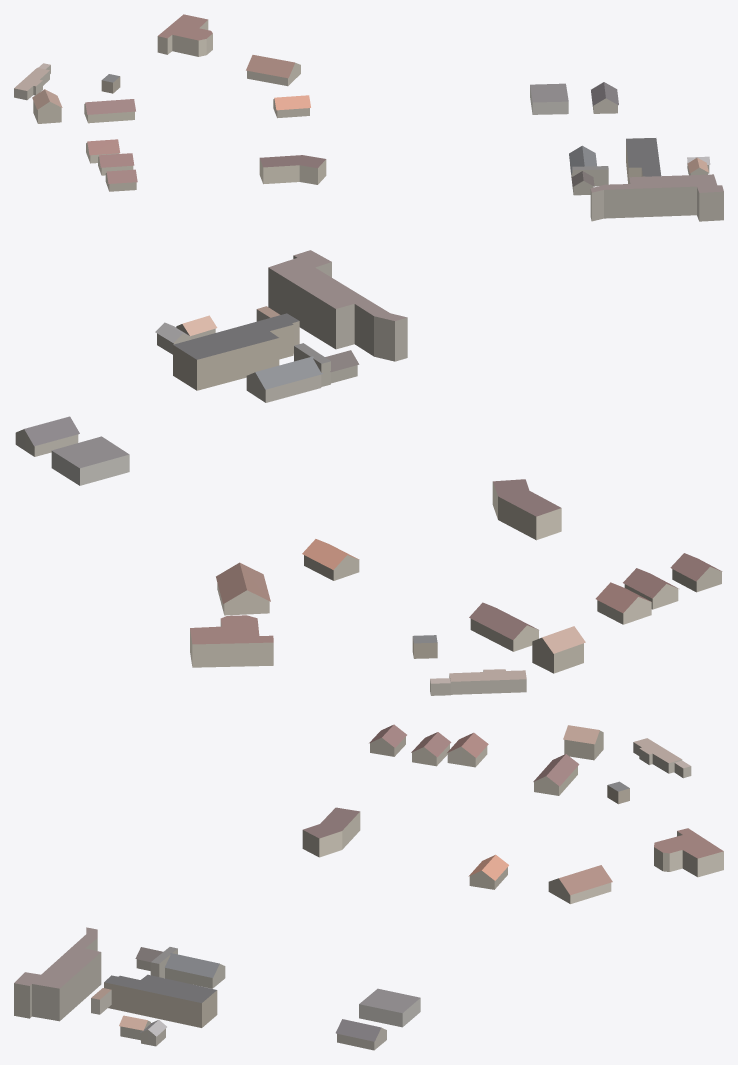
3 renders of one model, top to bottom at view 1: azimuth 30°, elevation 25°; view 2: azimuth 150°, elevation 25°; view 3: azimuth 270°, elevation 25°, orthographic. The views are drawn at different scales.
Visible parts, largest first — view 1: tuile; view 2: tuile; view 3: tuile.
Boxes of the visible parts, box(x1,y1,x2,y2) form: tuile: box(14, 14, 723, 221); tuile: box(15, 250, 722, 695); tuile: box(14, 724, 723, 1050).
Size of the model in its own units: 213 by 20.66 by 228.
